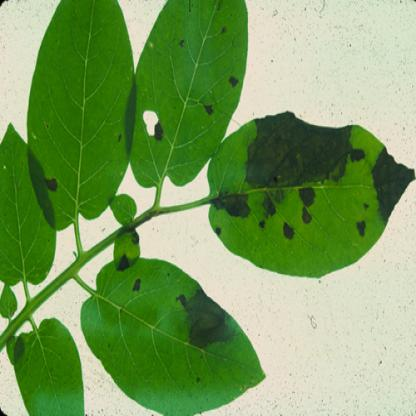Potato leaf early blight: (206, 107, 415, 275), (73, 253, 269, 415), (135, 1, 250, 206)
